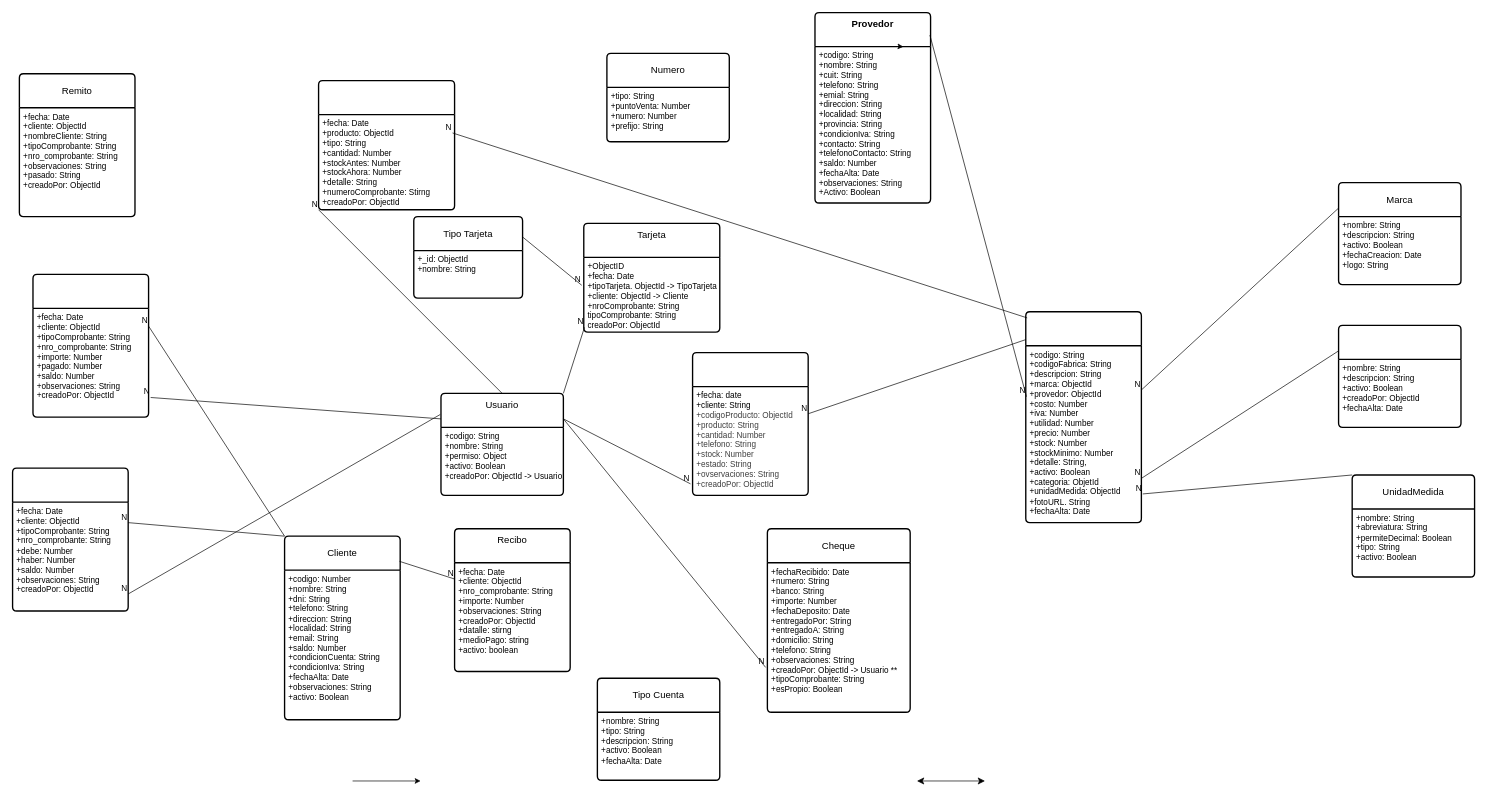
Image size: 1486x800. Some labels were removed from this diagram. The box of each missing label's shape, as (x1, y1, x2, y2) in pixels:
Categoria: (1338, 324, 1461, 428)
Cuenta Compensada: (32, 273, 149, 418)
Cuenta Historica: (12, 467, 129, 611)
Movimiento Stock: (318, 80, 455, 210)
Pedido: (692, 352, 809, 496)
Producto: (1025, 311, 1142, 523)
